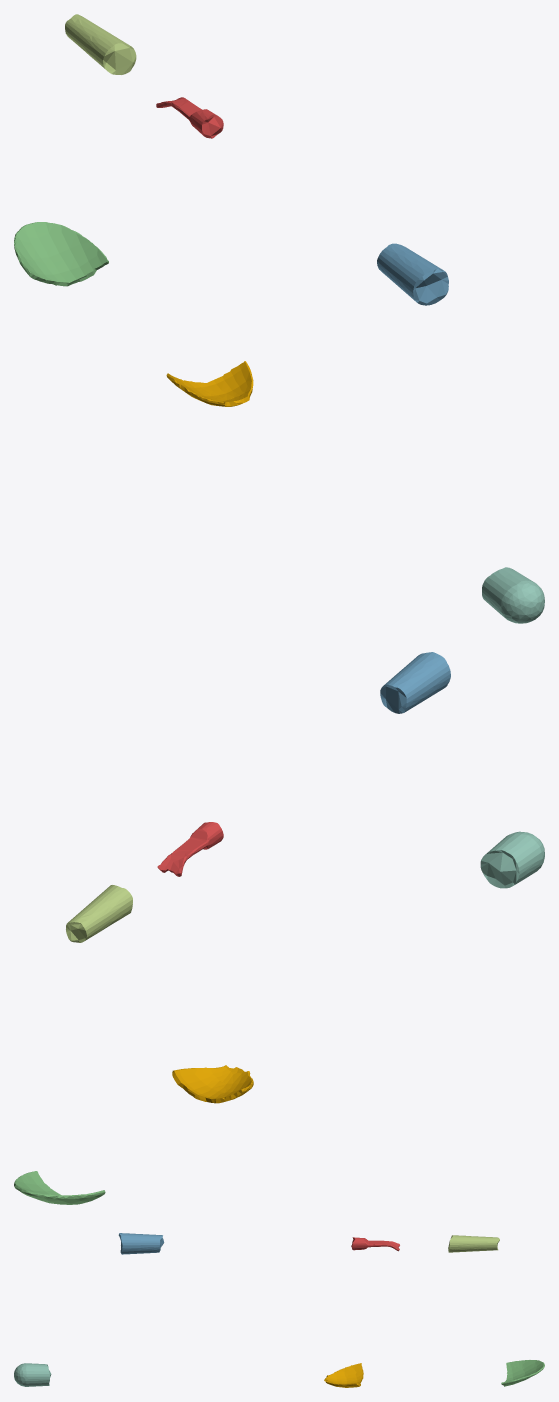
The model's file is mode_5_6pcs_transformed.glb.
The picture shows the model from 3 angles, top to bottom: view 1: azimuth 30°, elevation 25°; view 2: azimuth 150°, elevation 25°; view 3: azimuth 270°, elevation 25°; orthographic projection. The views are drawn at different scales.
Parts seen in each view (by area): view 1: piece_3.obj, piece_2.obj, piece_4.obj, piece_5.obj, piece_0.obj, piece_1.obj; view 2: piece_2.obj, piece_4.obj, piece_0.obj, piece_5.obj, piece_1.obj, piece_3.obj; view 3: piece_2.obj, piece_4.obj, piece_5.obj, piece_3.obj, piece_0.obj, piece_1.obj.
Boxes of the visible parts, x1,y1,x2,y2 form: piece_3.obj: [14, 222, 108, 286]; piece_2.obj: [377, 243, 448, 305]; piece_4.obj: [482, 567, 544, 623]; piece_5.obj: [65, 14, 136, 74]; piece_0.obj: [166, 361, 253, 406]; piece_1.obj: [156, 97, 223, 138]; piece_2.obj: [380, 652, 450, 713]; piece_4.obj: [480, 831, 544, 888]; piece_0.obj: [172, 1065, 253, 1103]; piece_5.obj: [66, 885, 132, 942]; piece_1.obj: [157, 822, 223, 876]; piece_3.obj: [14, 1171, 105, 1204]; piece_2.obj: [118, 1233, 164, 1254]; piece_4.obj: [14, 1363, 51, 1386]; piece_5.obj: [448, 1235, 499, 1252]; piece_3.obj: [501, 1360, 544, 1386]; piece_0.obj: [324, 1363, 363, 1387]; piece_1.obj: [351, 1237, 399, 1251].
Size of the model in its own units: 0.1912 by 0.6924 by 2.2.
